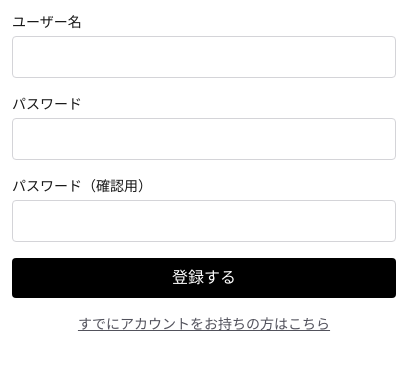
Scenario: SignupForm › パスワードと確認用が一致しないとエラーを表示する
This screenshot has width=414, height=384.
In the field labelled "ユーザー名": (204, 57) [12,36,396,78], type "testuser"
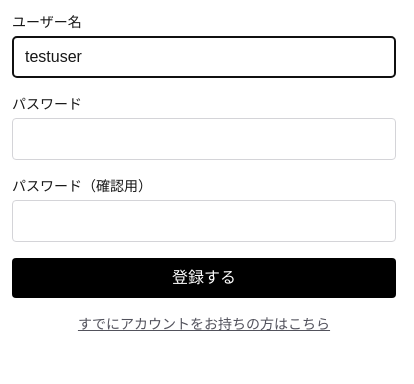
In the password field labelled "パスワード": (204, 139) [12,118,396,160], type "password123"
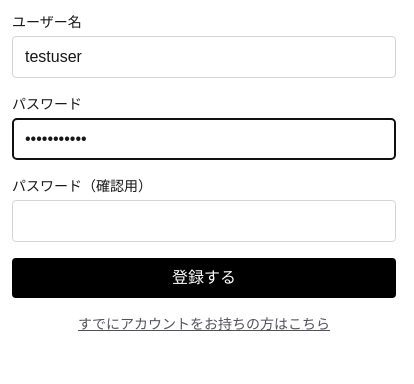
In the password field labelled "パスワード（確認用）": (204, 221) [12,200,396,242], type "password456"
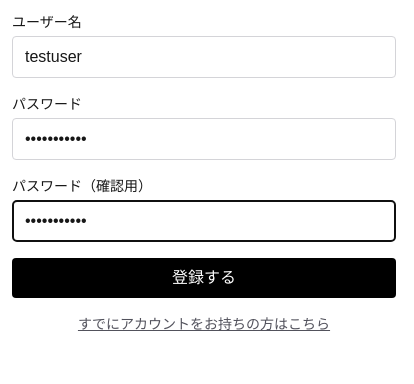
Click the button "登録する": (204, 278) [12,258,396,298]
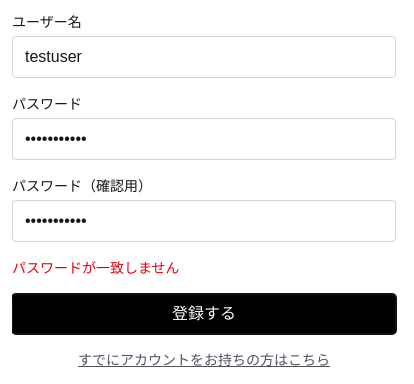
Expected: the text "パスワードが一致しません" is shown, [12,260,180,276]
